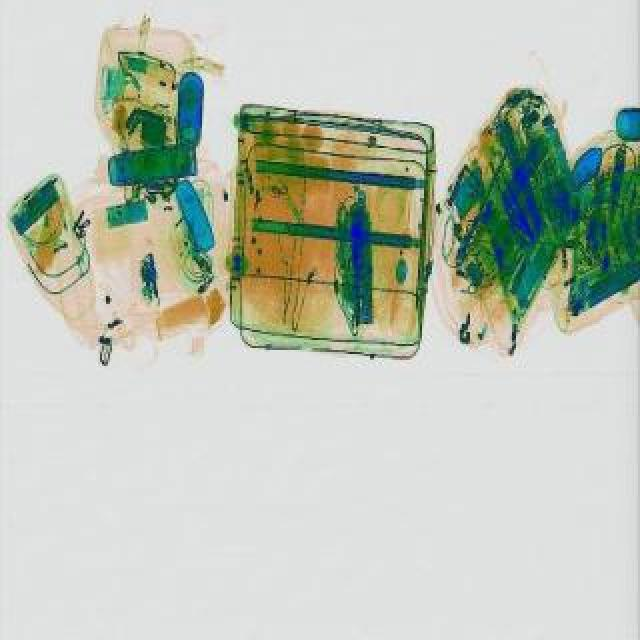wrench: (496, 180, 544, 248)
